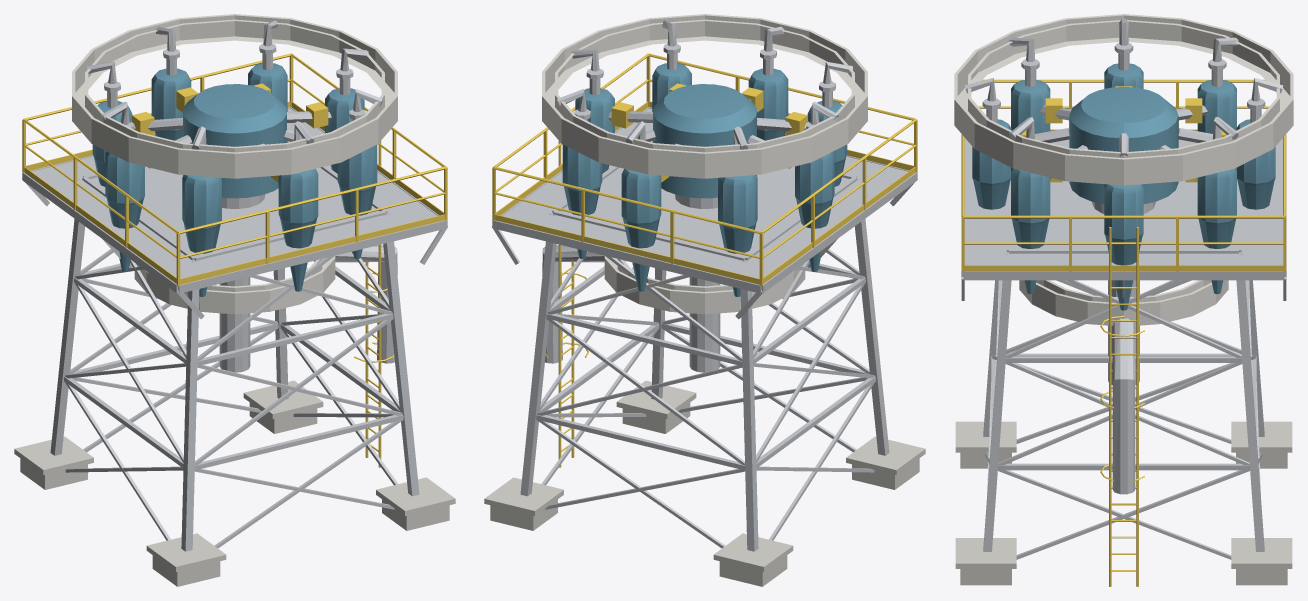
Rendered from ore-processing-and-haulage-plant-cyclone-cluster-0c656350.glb.
3 renders of one model, left to right at view 1: azimuth 30°, elevation 25°; view 2: azimuth 150°, elevation 25°; view 3: azimuth 270°, elevation 25°, orthographic. The views are drawn at different scales.
Visible parts, largest first — view 1: cyclone-cluster; view 2: cyclone-cluster; view 3: cyclone-cluster.
Part boxes in pixels (x1,y1,x2,y2): cyclone-cluster: (14, 14, 455, 586); cyclone-cluster: (484, 14, 925, 586); cyclone-cluster: (954, 14, 1293, 586).
Bounding box in the file's own units: 6.39 × 8.42 × 5.91.
